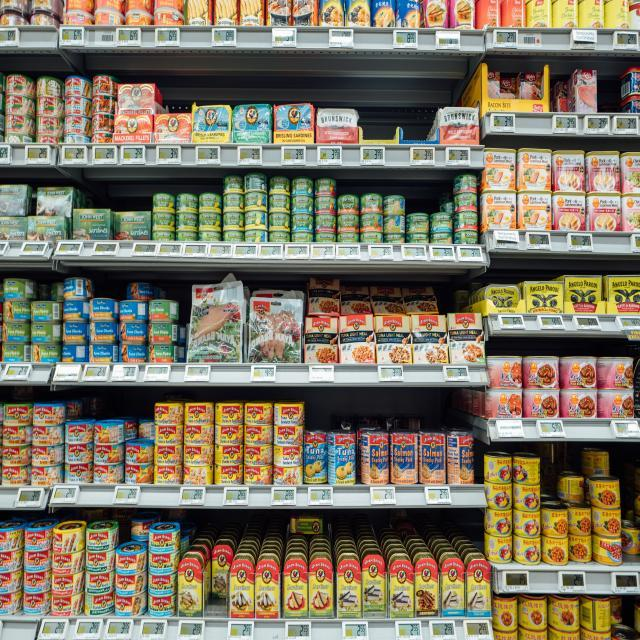Imprecise: (282, 512, 338, 621), (586, 442, 623, 562), (478, 61, 548, 115), (115, 518, 152, 616), (115, 275, 154, 360), (31, 276, 68, 361), (23, 180, 74, 240), (560, 471, 592, 562), (124, 416, 158, 490), (202, 538, 232, 620), (608, 591, 640, 640), (606, 594, 640, 640), (550, 68, 576, 112), (618, 519, 640, 567)
